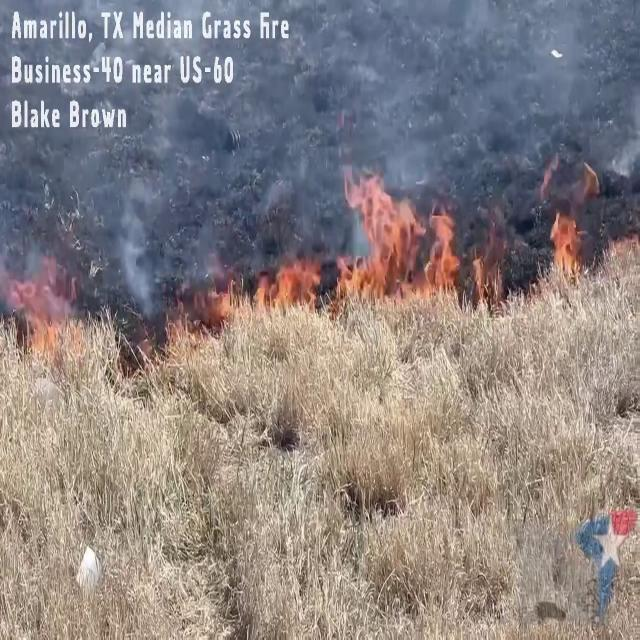Fire: (340, 164, 466, 306), (251, 251, 323, 320), (21, 290, 74, 374), (544, 204, 586, 284)
Smoke: (18, 0, 640, 235)
